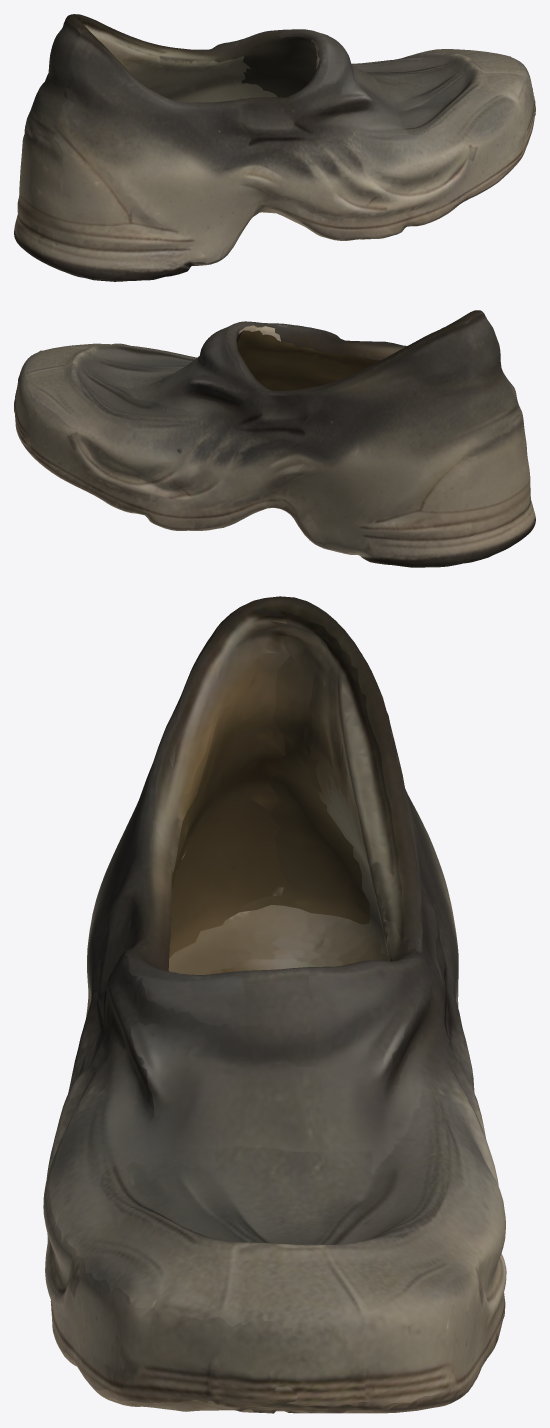
3 renders of one model, top to bottom at view 1: azimuth 30°, elevation 25°; view 2: azimuth 150°, elevation 25°; view 3: azimuth 270°, elevation 25°, orthographic. The views are drawn at different scales.
Visible parts, largest first — view 1: world; view 2: world; view 3: world.
Boxes of the visible parts, <box> form: world: <box>14,14,535,281</box>; world: <box>14,310,535,567</box>; world: <box>43,596,506,1413</box>.
Bounding box in the file's own units: 201 × 92.38 × 80.49.
Materials: 1 (1 with a texture image).
